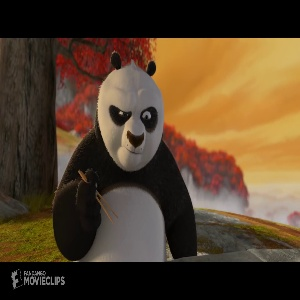po: (55, 49, 200, 262)
